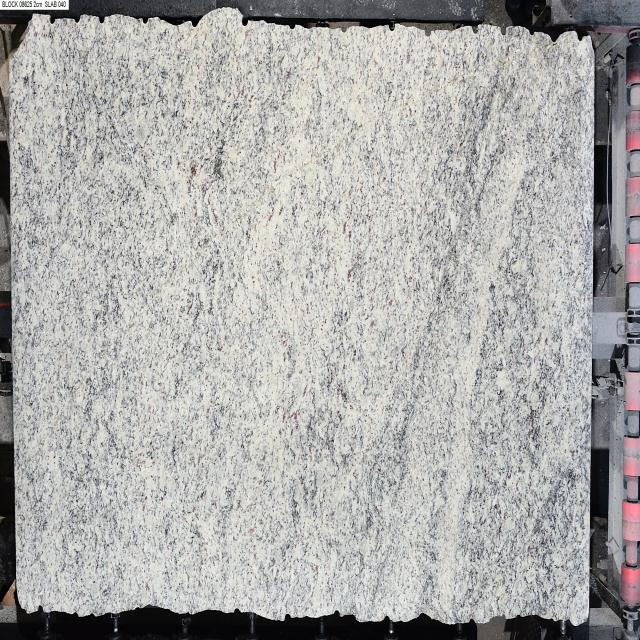chapa: (10, 8, 594, 626)
